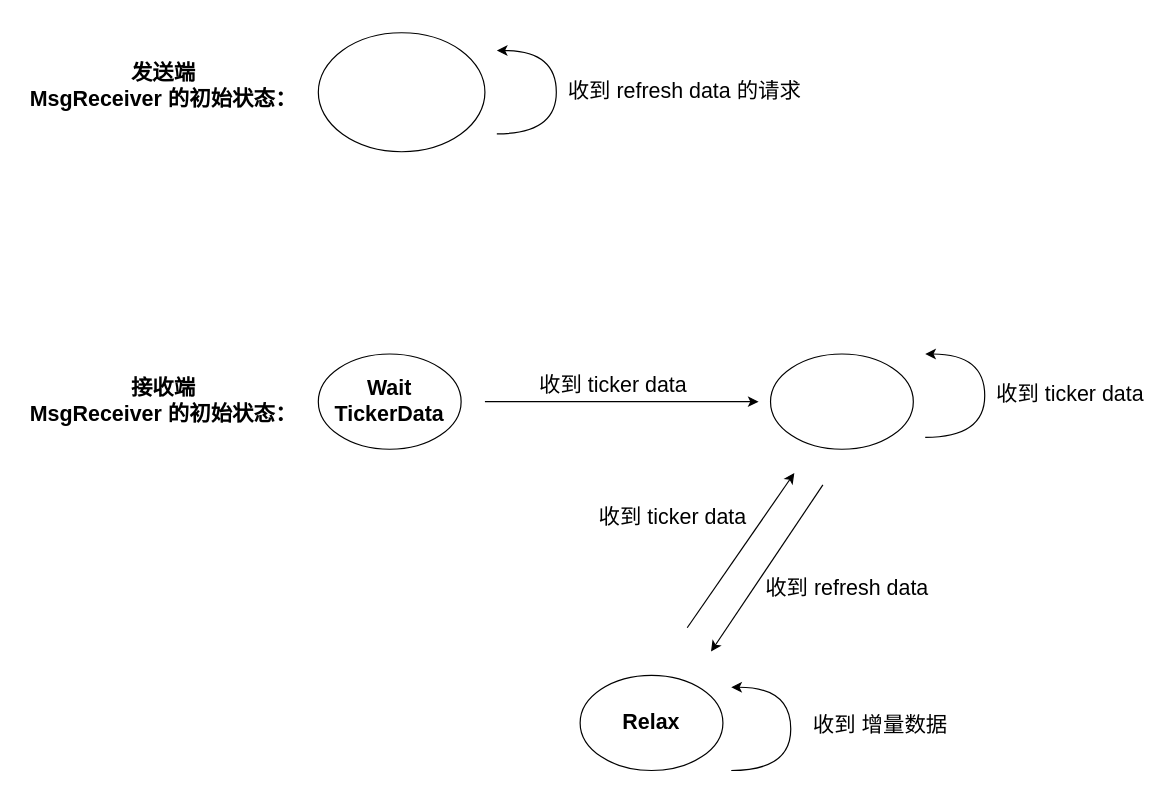
This 1176x791 diagram has some shape labels left out. Each missing label, with the centre of its shape:
Wait RefreshData: pixel 841 401
Wait RefreshReq: pixel 401 92
